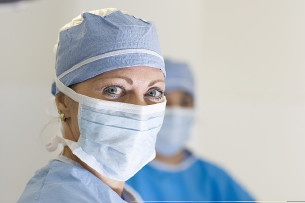Mask: (58, 69, 169, 180)
